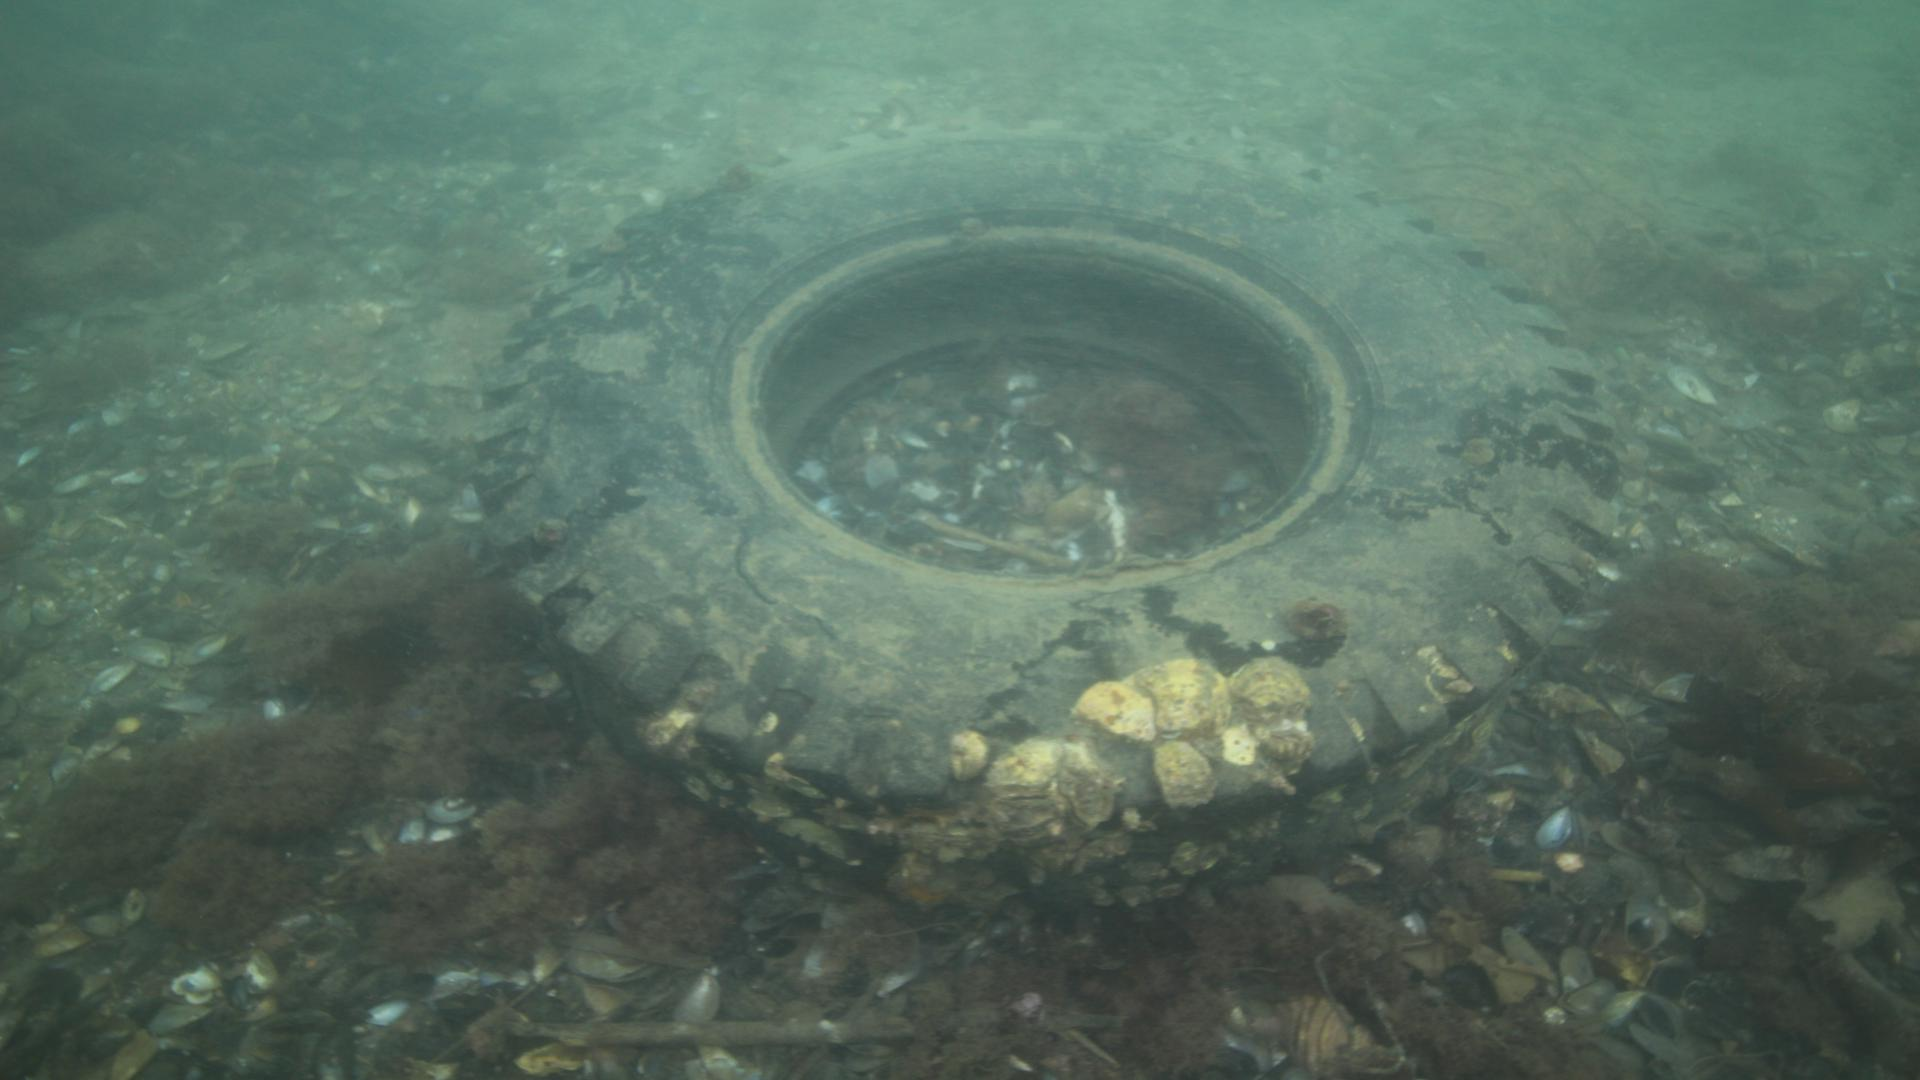tire: (469, 117, 1621, 939)
